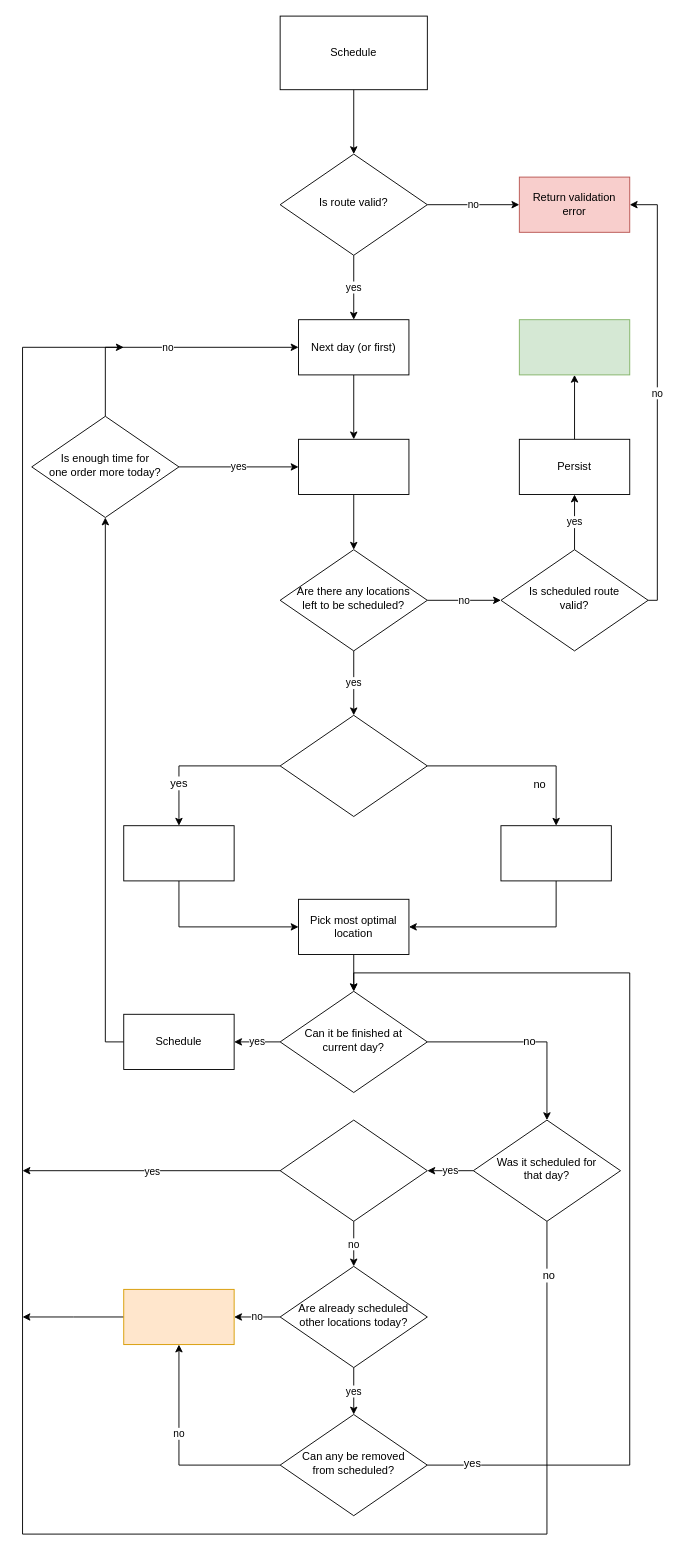
Some shapes in this 681 by 1558 pixel diagram are drawn without their labels. Here are the shapes that lost their labels. From the top down, the centre of each, then its label:
point 574,347: Return
point 353,466: Get last location or start location
point 353,765: Are locations to be scheduled for current day?
point 178,853: Create list of scheduled locations
point 555,853: Create list of non scheduled locations
point 353,1170: Can it be done later on (next day etc)?
point 178,1316: Add to skipped locations list
